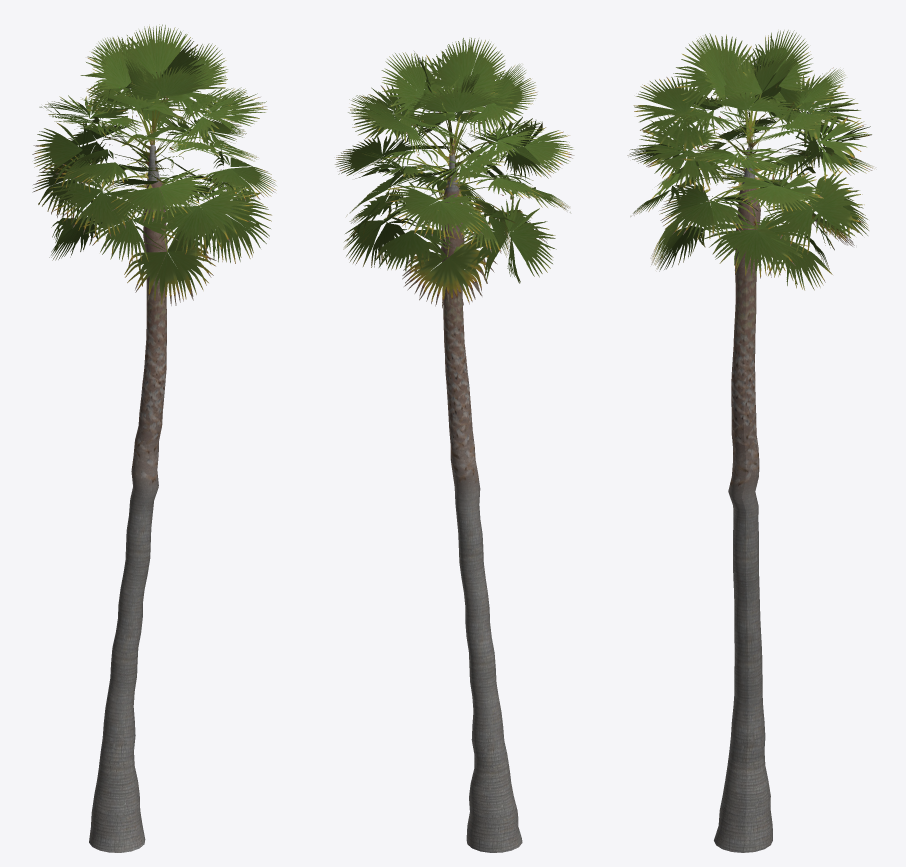
File: palma-lepeza-a.glb
3 renders of one model, left to right at view 1: azimuth 30°, elevation 25°; view 2: azimuth 150°, elevation 25°; view 3: azimuth 270°, elevation 25°, orthographic. The views are drawn at different scales.
Parts seen in each view (by area): view 1: palma-lepeza-a; view 2: palma-lepeza-a; view 3: palma-lepeza-a.
Part boxes in pixels (x1,y1,x2,y2): palma-lepeza-a: (32, 24, 276, 852); palma-lepeza-a: (335, 38, 574, 852); palma-lepeza-a: (627, 30, 873, 852).
Size of the model in its own units: 4.31 by 13.69 by 4.17.
2 materials, 2 textured.
